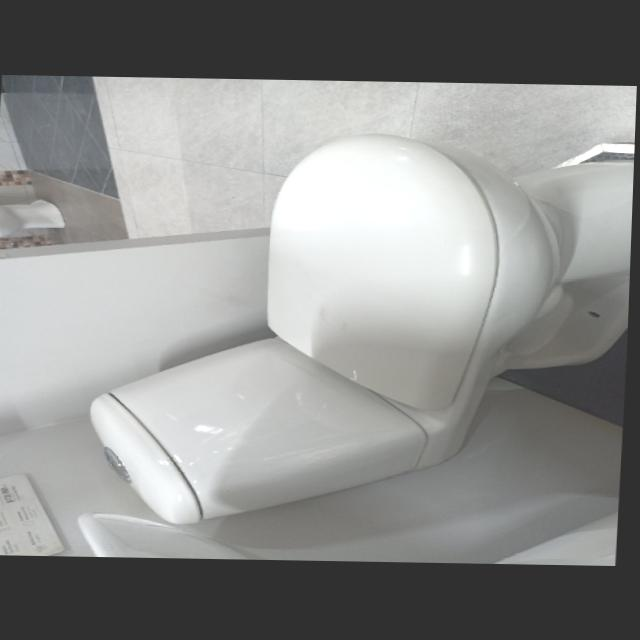toilet: (86, 128, 636, 532)
